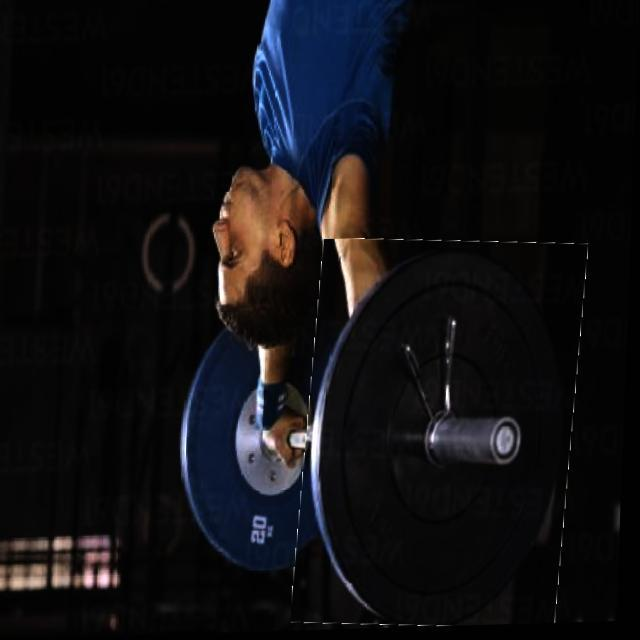barbell: (301, 239, 587, 634)
